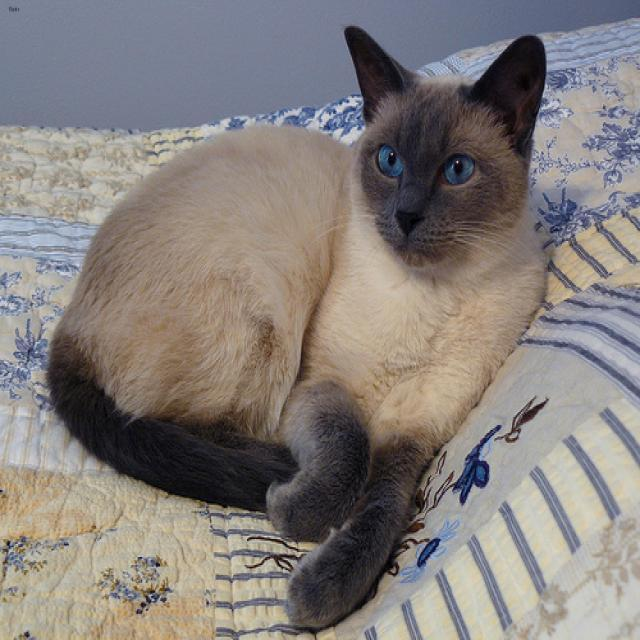Siamese: (343, 23, 544, 267)
